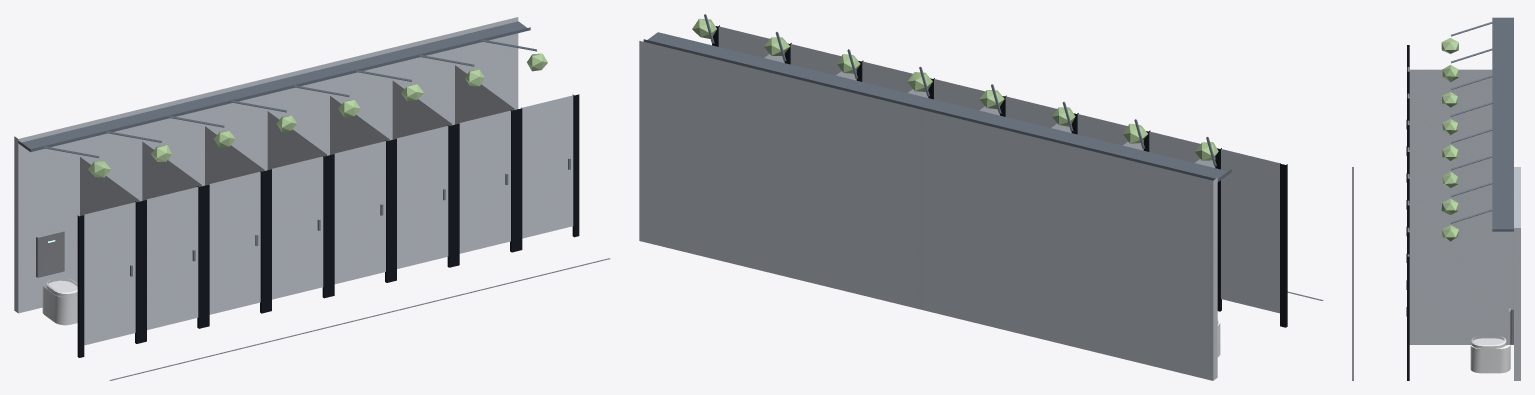
3 renders of one model, left to right at view 1: azimuth 30°, elevation 25°; view 2: azimuth 150°, elevation 25°; view 3: azimuth 270°, elevation 25°, orthographic. The views are drawn at different scales.
Visible parts, largest first — view 1: Stall_Doors, Wet_Wall, Pilasters, Partitions, Canopy_Rail, Hanging_Foliage, WC, WC_VacUnit, Aisle_Centre_Strip; view 2: Wet_Wall, Stall_Doors, Canopy_Rail, Pilasters, Hanging_Foliage, Partitions; view 3: Partitions, Canopy_Rail, Hanging_Foliage, Wet_Wall, WC, Pilasters, Aisle_Centre_Strip.
Part boxes in pixels (left/top/right/bottom): Stall_Doors: left=83, top=95, right=573, bottom=345; Wet_Wall: left=14, top=17, right=518, bottom=313; Pilasters: left=77, top=94, right=579, bottom=357; Partitions: left=80, top=65, right=516, bottom=215; Canopy_Rail: left=18, top=21, right=536, bottom=158; Hanging_Foliage: left=88, top=53, right=547, bottom=177; WC: left=42, top=277, right=77, bottom=325; WC_VacUnit: left=36, top=231, right=64, bottom=277; Aisle_Centre_Strip: left=109, top=258, right=610, bottom=380; Wet_Wall: left=639, top=41, right=1217, bottom=380; Stall_Doors: left=718, top=26, right=1280, bottom=313; Canopy_Rail: left=643, top=14, right=1231, bottom=181; Pilasters: left=712, top=25, right=1287, bottom=327; Hanging_Foliage: left=692, top=18, right=1218, bottom=160; Partitions: left=764, top=54, right=1215, bottom=167; Partitions: left=1409, top=69, right=1513, bottom=344; Canopy_Rail: left=1450, top=17, right=1513, bottom=231; Hanging_Foliage: left=1441, top=38, right=1458, bottom=241; Wet_Wall: left=1514, top=167, right=1520, bottom=380; WC: left=1470, top=336, right=1510, bottom=373; Pilasters: left=1407, top=45, right=1409, bottom=380; Aisle_Centre_Strip: left=1352, top=167, right=1353, bottom=380.
Bounding box in the file's own units: 7.2 × 2.4 × 2.4.
9 materials, 4 textured.
